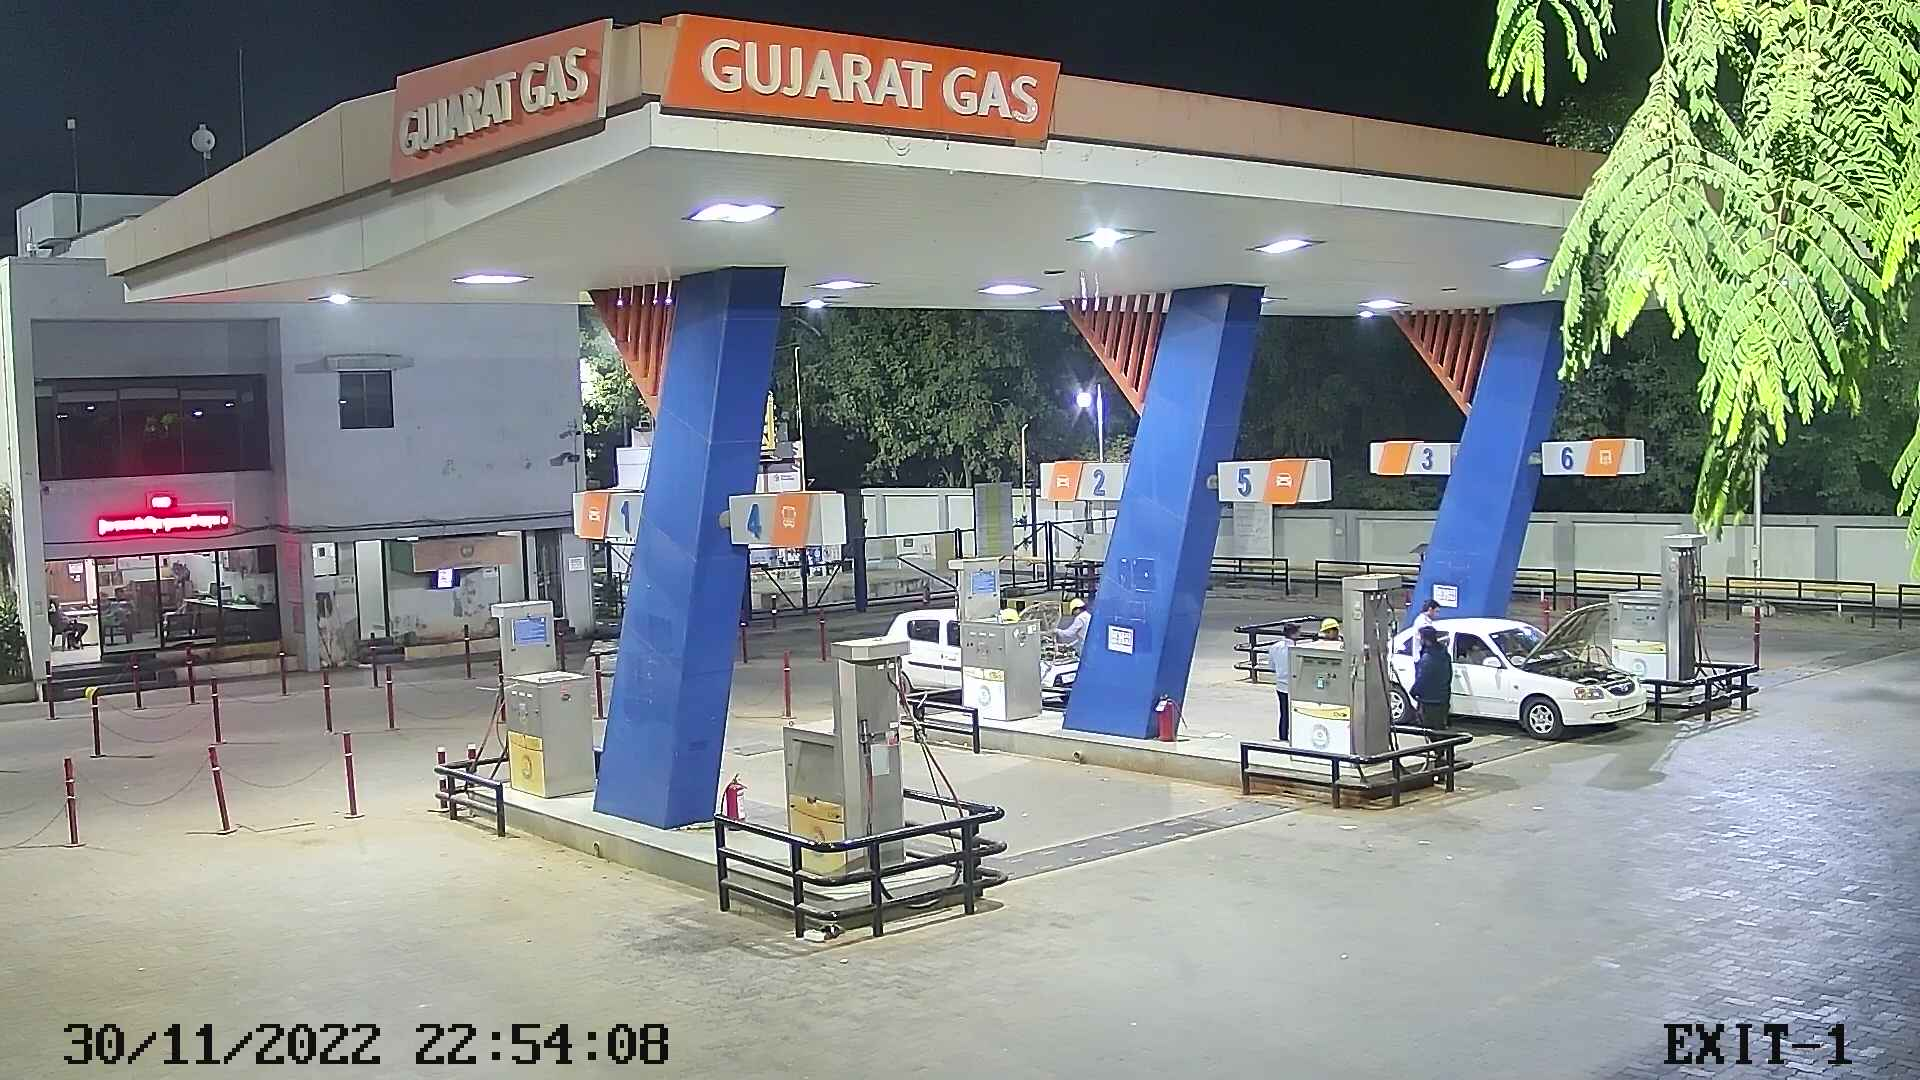Car: (1383, 593, 1652, 749), (876, 601, 972, 727)
Others: (1043, 589, 1097, 673), (1313, 608, 1356, 645)
